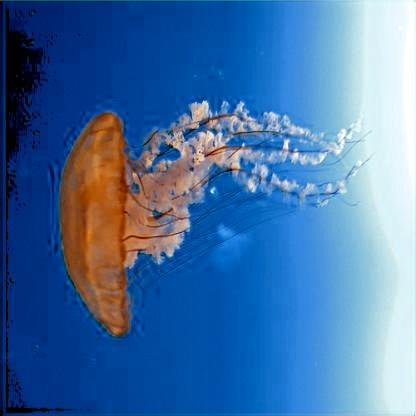Dressed: (59, 103, 364, 335)
